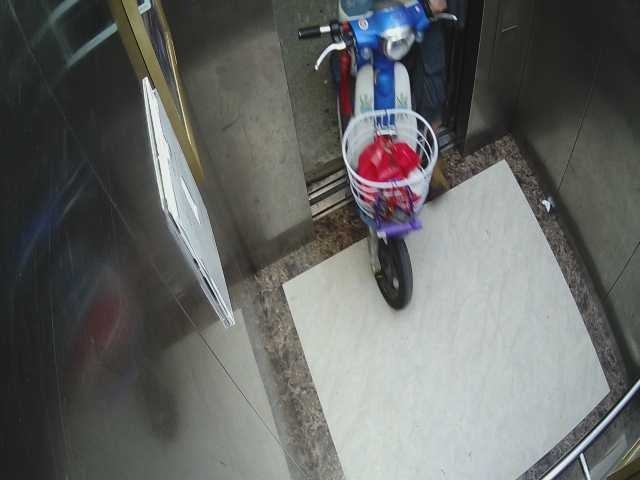emotor: (294, 2, 462, 320)
